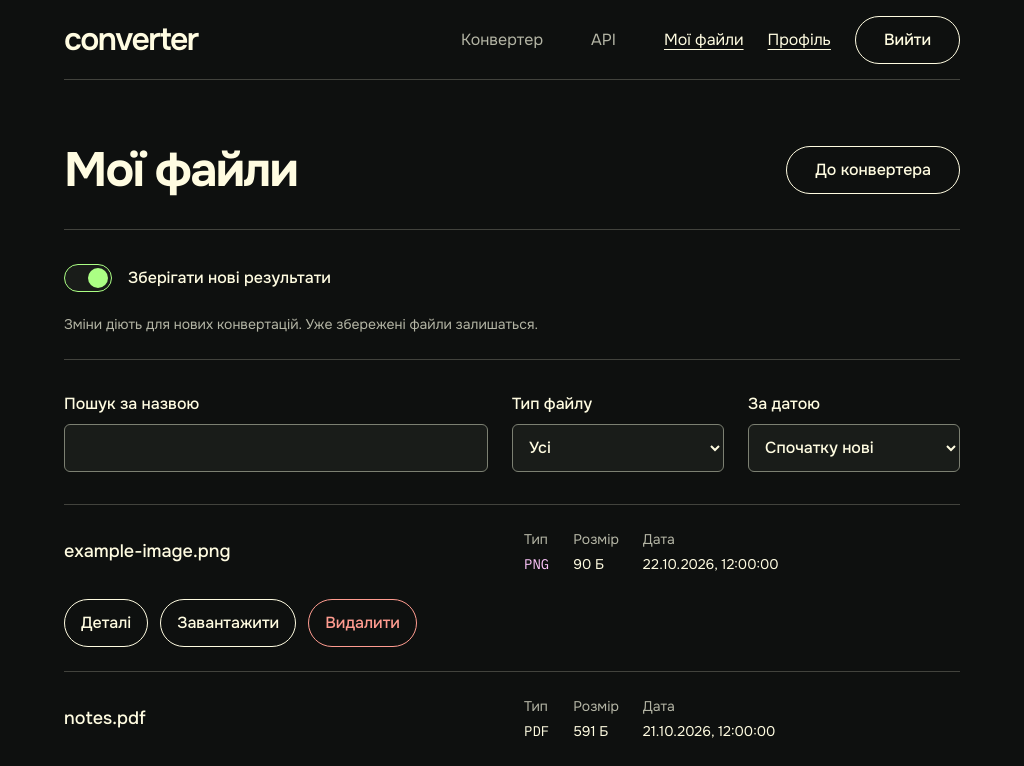
distinguishes no matching files from an empty library and can clear filters
Check: the element "example-image.png" is shown, box [64,530,779,647]
In the search field labelled "Пошук за назвою": (276, 448) [64,424,488,472], type "missing-file"
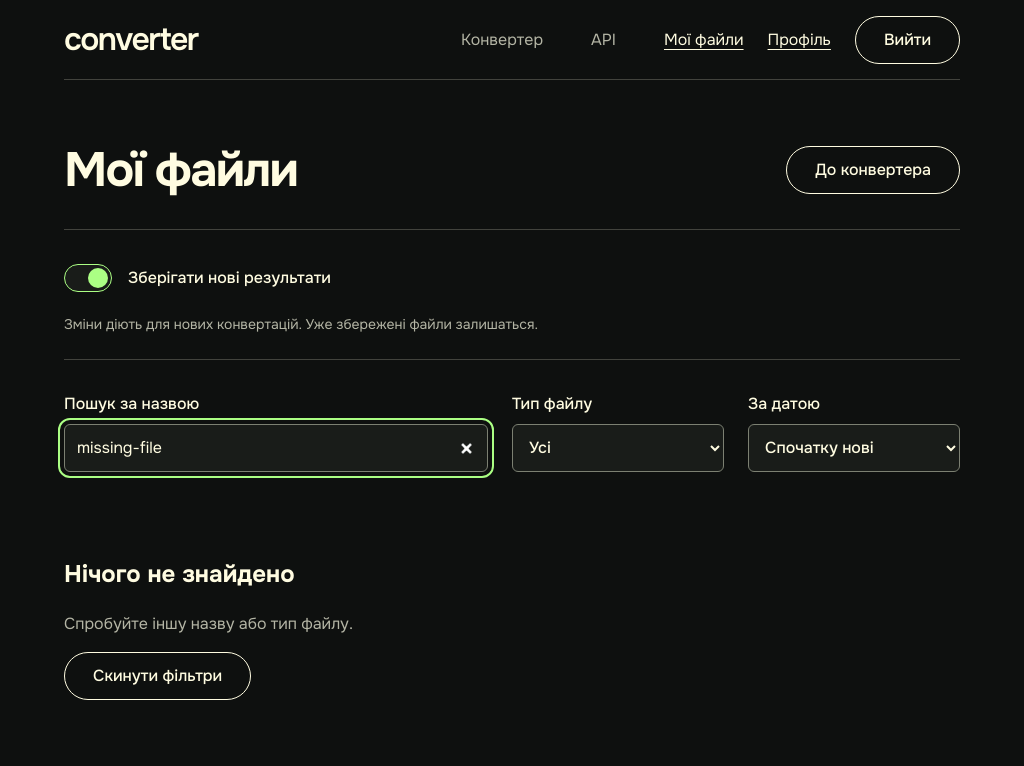
Check: the heading "Нічого не знайдено" is shown, box [64,559,295,589]
Click the button "Скинути фільтри": (158, 676) [64,652,251,700]
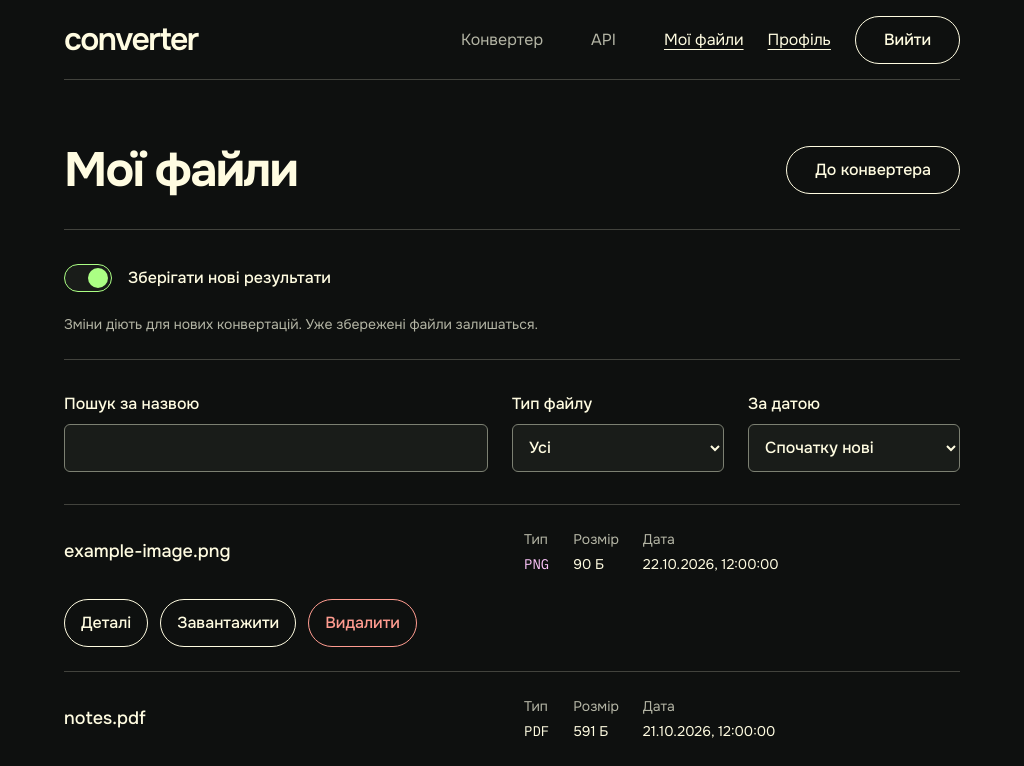
Check: the element "example-image.png" is shown, box [64,530,779,647]
